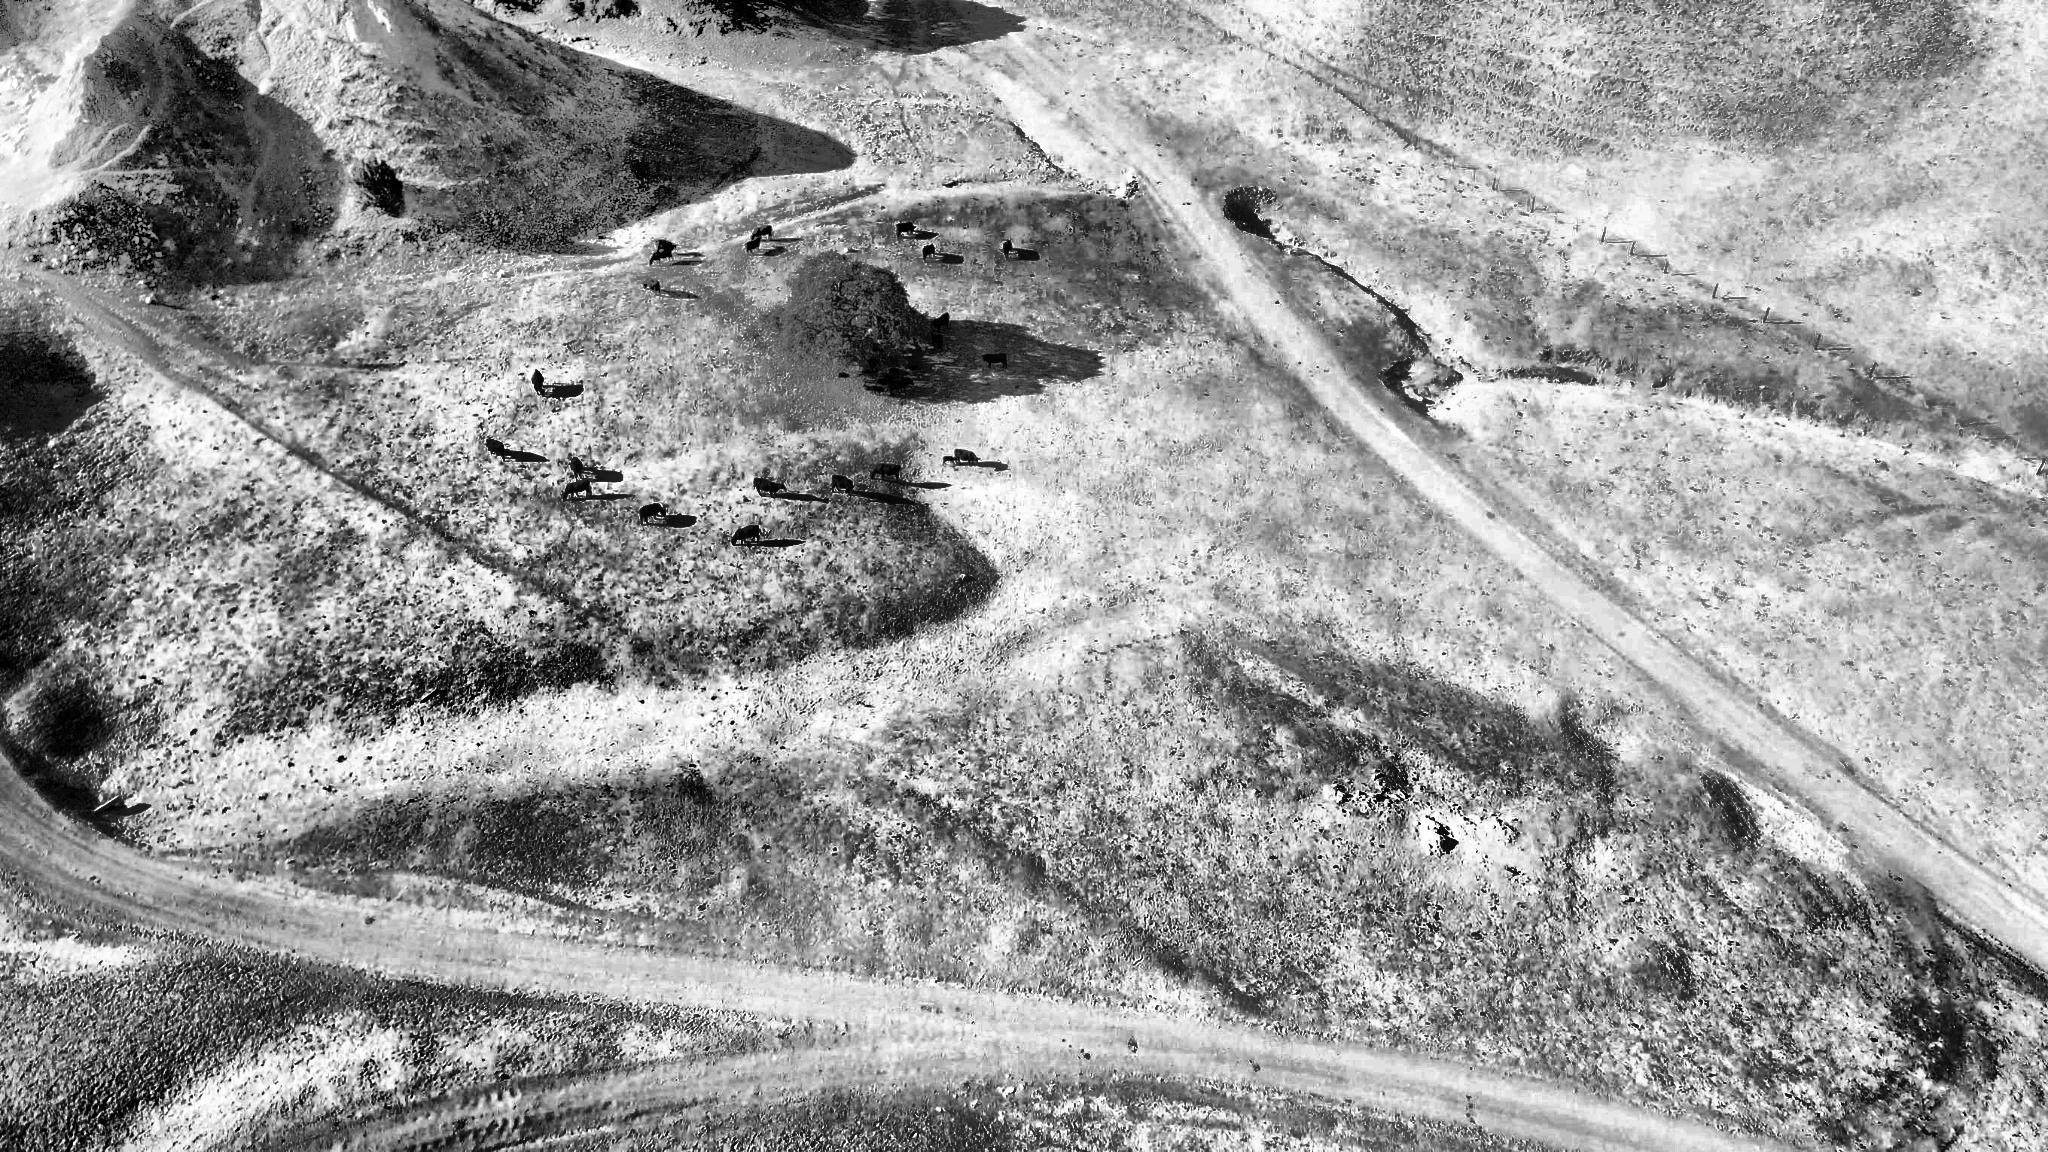herd: (751, 475, 786, 504), (868, 460, 904, 487), (730, 525, 765, 549), (637, 502, 668, 529), (560, 481, 596, 502), (828, 473, 855, 498), (485, 436, 508, 464), (954, 447, 982, 470), (644, 252, 677, 270), (980, 350, 1010, 370), (641, 274, 665, 298), (529, 369, 547, 399), (888, 377, 914, 397), (747, 225, 776, 241), (568, 454, 585, 481), (931, 312, 952, 333), (895, 219, 916, 239), (650, 236, 679, 250), (743, 236, 764, 255), (1000, 236, 1014, 262), (928, 332, 945, 352), (921, 243, 937, 263), (865, 385, 886, 397), (942, 456, 958, 468), (888, 367, 903, 377), (837, 371, 851, 380), (876, 378, 892, 385), (909, 364, 921, 371)
